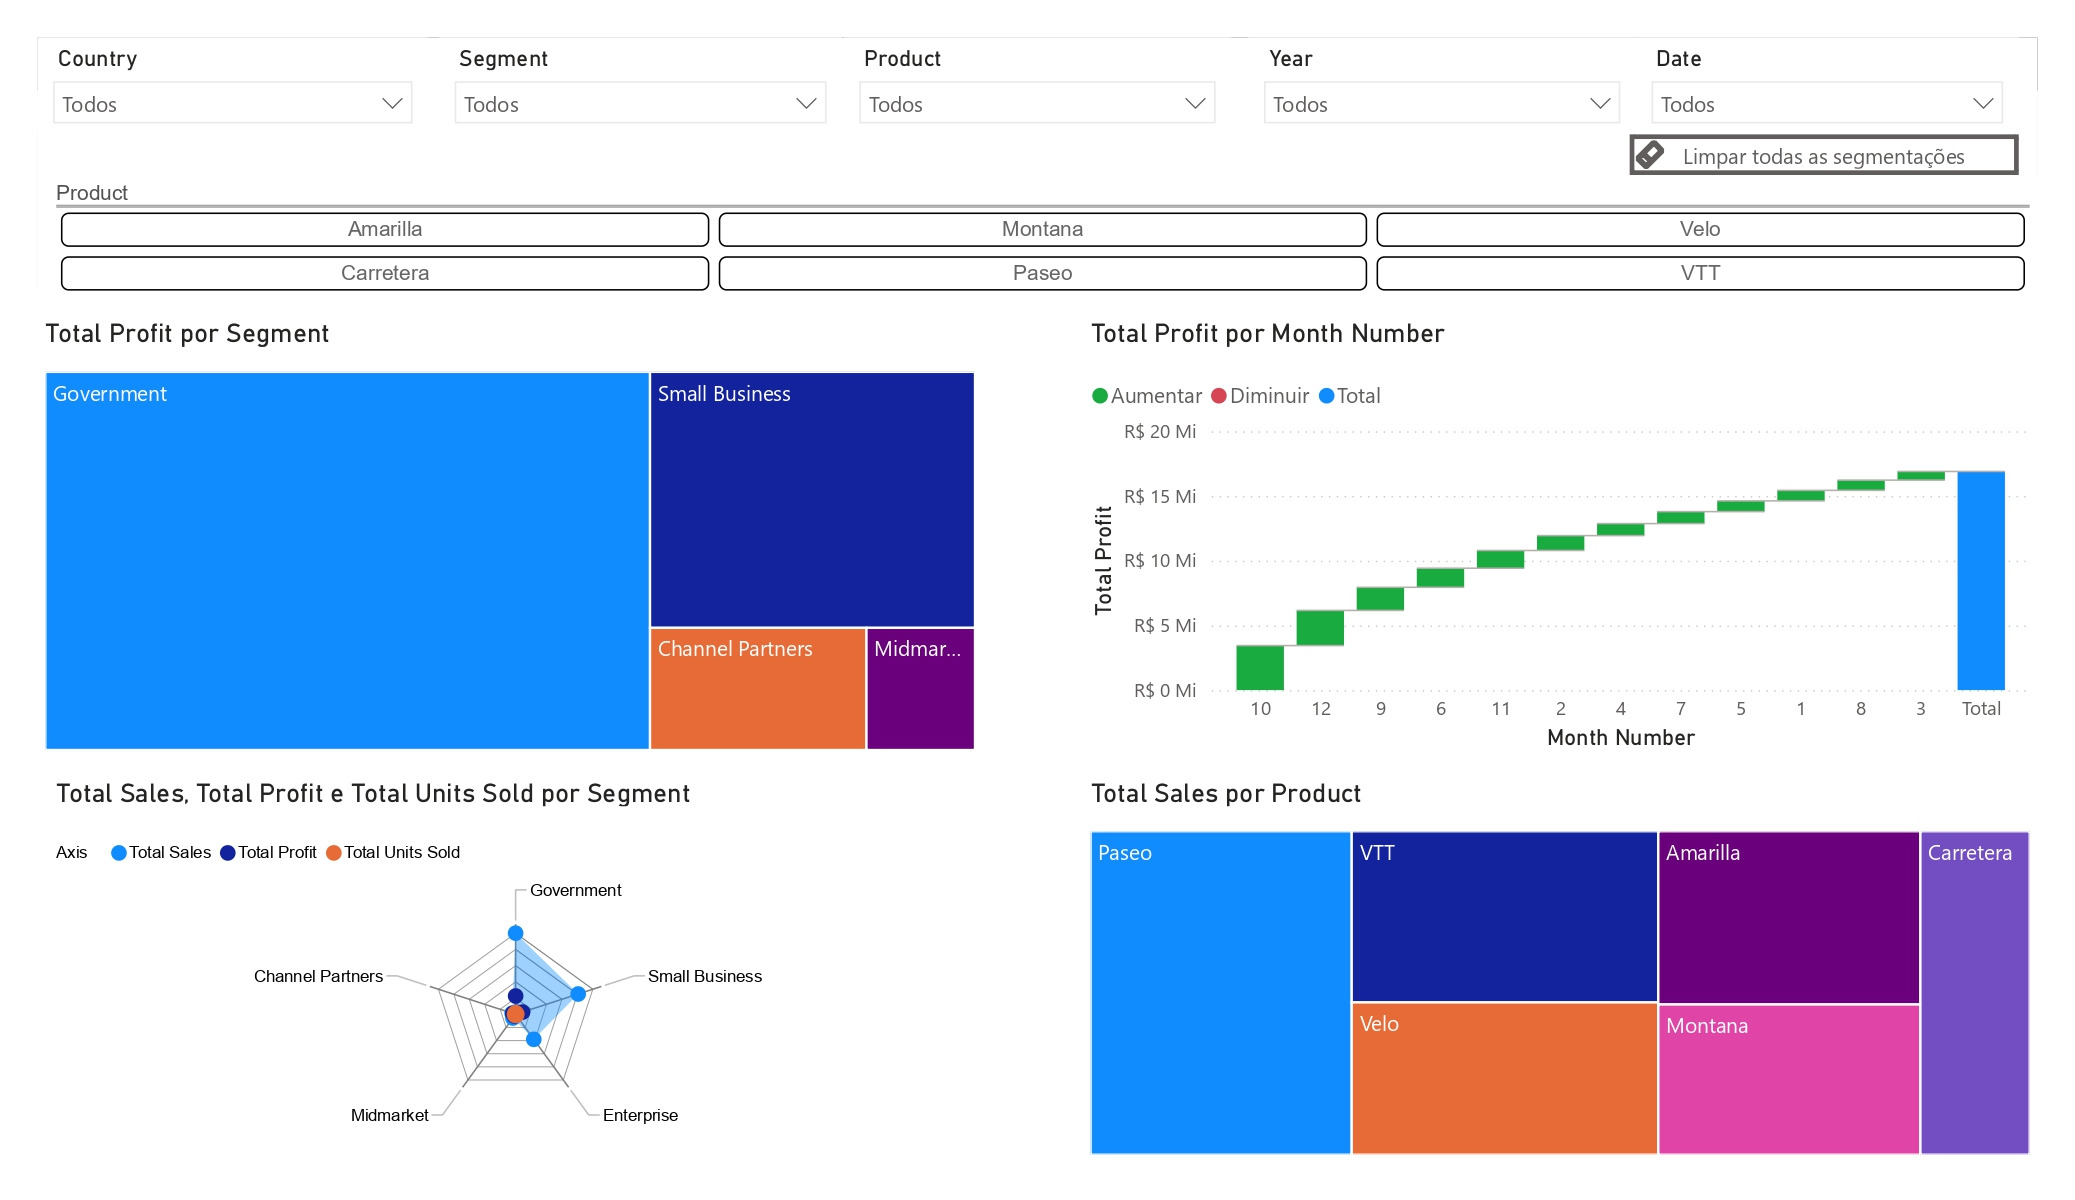

This screenshot's page, from the dashboard's own definition file:
{"tool":"powerbi","page":{"name":"Análise Avançada","canvas":[1280,720],"ordinal":1},"visuals":[{"type":"treemap","fields":{"Group":["Financials.Segment","Financials.Country","Financials.Product","Financials.Discount Band"],"Values":["Financials.Total Profit"]},"box":[0,179,605,282.1],"z":0},{"type":"waterfallChart","fields":{"Category":["Financials.Month Number"],"Y":["Financials.Total Profit"]},"box":[669.2,179,610.8,282.1],"z":1000},{"type":"treemap","fields":{"Group":["Financials.Product"],"Values":["Financials.Total Sales"]},"box":[669.2,472.7,610.8,247.1],"z":2000},{"type":"RadarChart1446119667547","fields":{"Category":["Financials.Segment"],"Y":["Financials.Total Sales","Financials.Total Profit","Financials.Total Units Sold"]},"box":[6.8,472.7,598.2,247.1],"z":3000},{"type":"ChicletSlicer1448559807354","fields":{"Category":["Financials.Product"]},"box":[6.8,74.9,1273.2,90.5],"z":4000},{"type":"slicer","fields":{"Values":["Financials.Country"]},"box":[0,0,250,62.2],"z":5000},{"type":"slicer","fields":{"Values":["Financials.Segment"]},"box":[256.8,0,257.8,62.2],"z":6000},{"type":"slicer","fields":{"Values":["Financials.Product"]},"box":[515.5,0,248,62.2],"z":7000},{"type":"slicer","fields":{"Values":["Financials.Year"]},"box":[775.2,0,248,79.8],"z":8000},{"type":"slicer","fields":{"Values":["Financials.Date"]},"box":[1023.2,0,245.1,74.9],"z":9000},{"type":"actionButton","box":[1019.3,62.2,249,25.3],"z":10000}]}

Visuals, with their boxes on the page's 1280x720 design canvas (x1, y1, x2, y2). These are canvas units, not pixel positions in the 2075x1200 screenshot, which may show the page scaled, cropped or inside an application window:
treemap - Financials.Segment x Financials.Country: <box>0,179,605,461</box>
waterfallChart - Financials.Month Number x Financials.Total Profit: <box>669,179,1280,461</box>
treemap - Financials.Product x Financials.Total Sales: <box>669,473,1280,720</box>
RadarChart1446119667547 - Financials.Segment x Financials.Total Sales: <box>7,473,605,720</box>
ChicletSlicer1448559807354 - Financials.Product: <box>7,75,1280,165</box>
slicer - Financials.Country: <box>0,0,250,62</box>
slicer - Financials.Segment: <box>257,0,515,62</box>
slicer - Financials.Product: <box>516,0,764,62</box>
slicer - Financials.Year: <box>775,0,1023,80</box>
slicer - Financials.Date: <box>1023,0,1268,75</box>
actionButton: <box>1019,62,1268,88</box>
